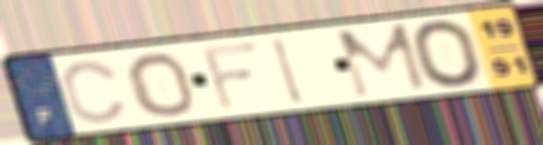C: (59, 58, 130, 125)
F: (198, 39, 263, 114)
I: (270, 35, 307, 107)
M: (333, 20, 431, 101)
O: (407, 17, 488, 90), (122, 51, 199, 118)
